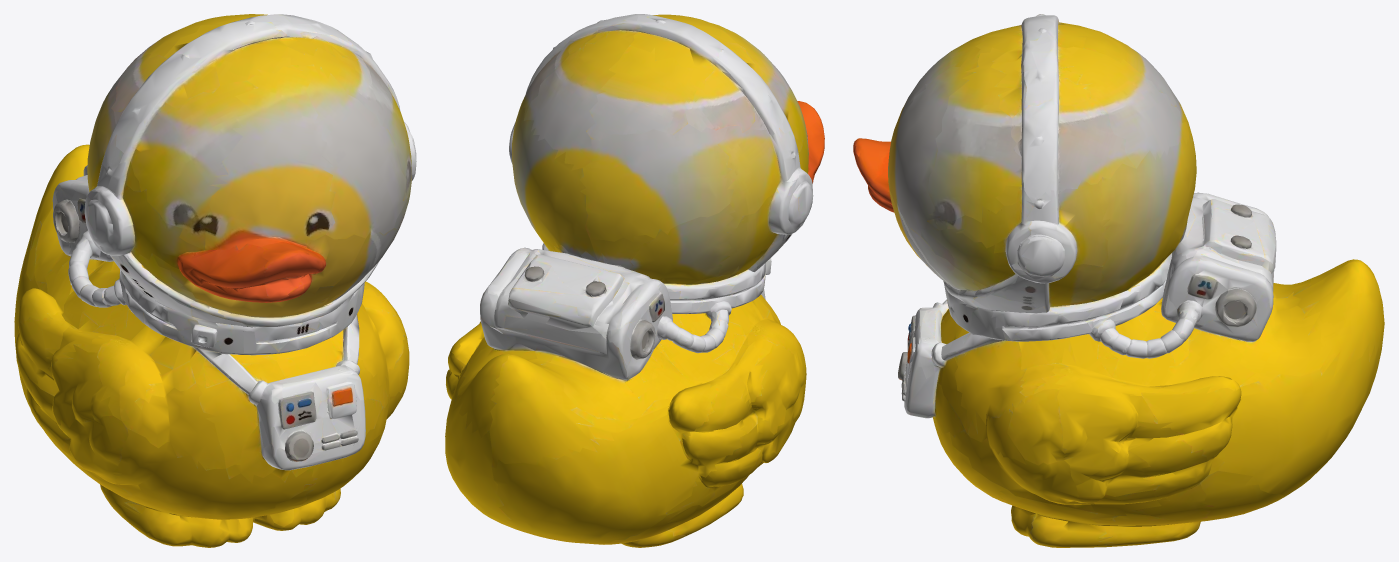
File: pato.glb
3 renders of one model, left to right at view 1: azimuth 30°, elevation 25°; view 2: azimuth 150°, elevation 25°; view 3: azimuth 270°, elevation 25°, orthographic. The views are drawn at different scales.
Parts seen in each view (by area): view 1: output_unwrapped; view 2: output_unwrapped; view 3: output_unwrapped.
Part boxes in pixels (x1=…): output_unwrapped: x1=14, y1=14, x2=416, y2=547; output_unwrapped: x1=445, y1=14, x2=824, y2=547; output_unwrapped: x1=853, y1=14, x2=1384, y2=547.
Size of the model in its own units: 1.25 by 1.9 by 1.9.
Materials: 1 (1 with a texture image).
